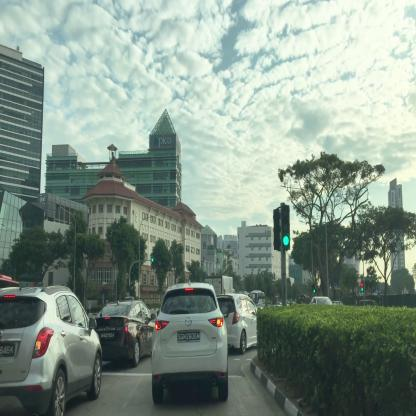green_traffic_light: (282, 207, 289, 247)
